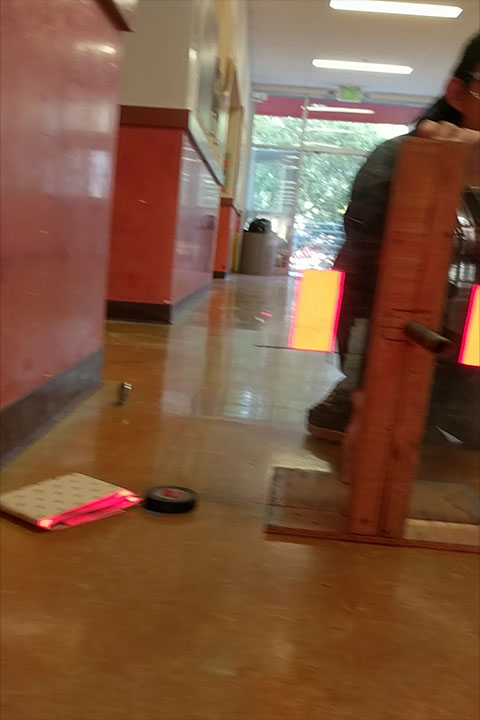gear: (286, 268, 345, 354)
